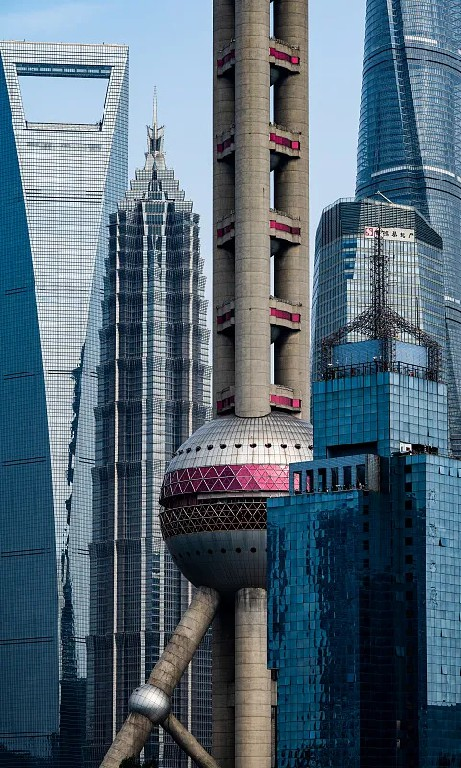Oriental: (101, 1, 312, 768)
